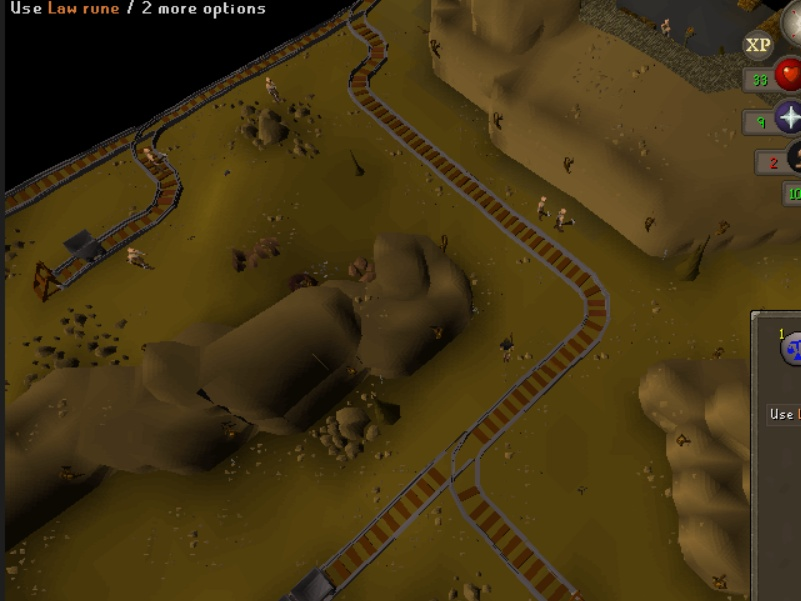copper: (221, 240, 257, 279), (251, 226, 287, 264), (345, 251, 378, 285)
